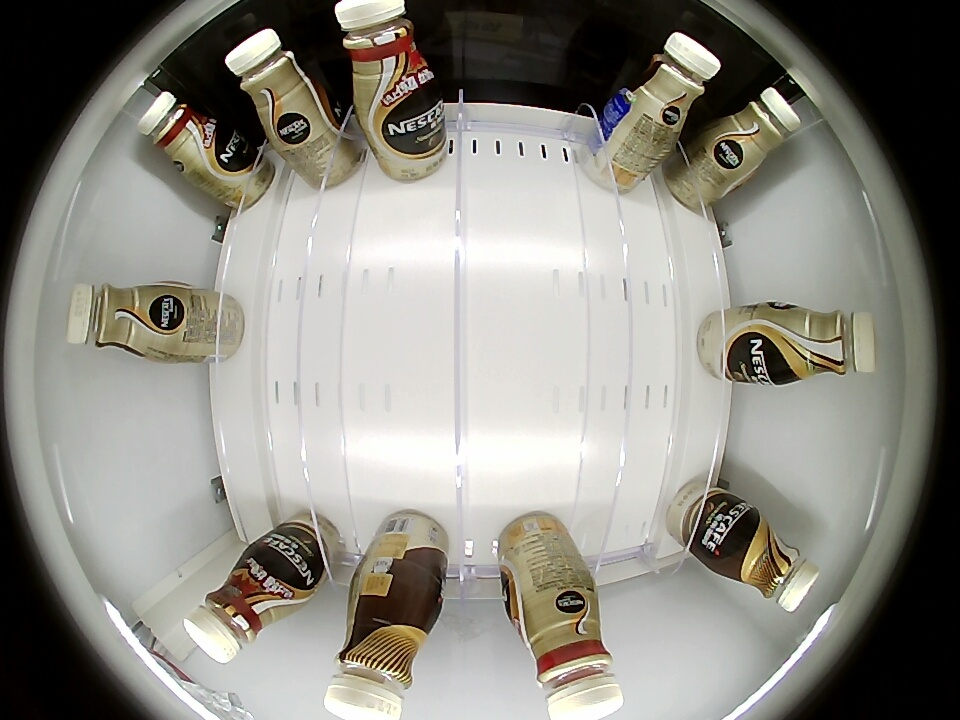kafei: (326, 591, 449, 720), (498, 597, 621, 720), (184, 549, 302, 664), (337, 0, 447, 115), (225, 28, 328, 139), (722, 514, 820, 612), (628, 31, 720, 135), (764, 305, 878, 384), (66, 281, 174, 360), (137, 90, 228, 175), (714, 86, 800, 172)
